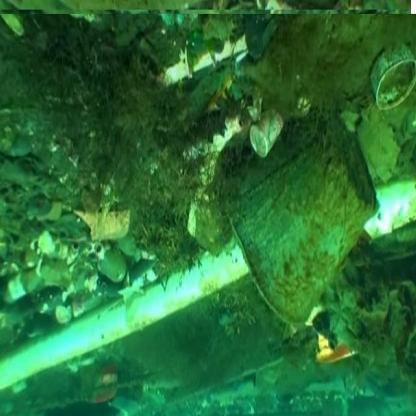misc: (211, 98, 365, 342)
